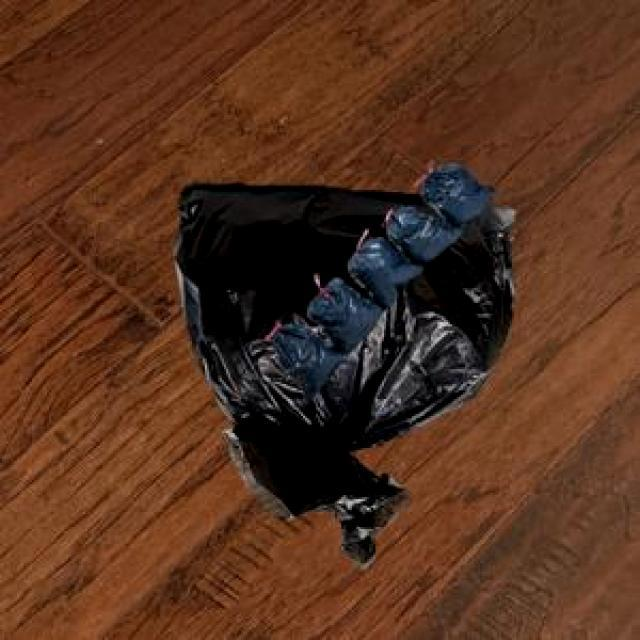Trashbag: (315, 279, 375, 342), (273, 328, 333, 391), (352, 239, 412, 297), (391, 207, 454, 256), (428, 168, 485, 220)
